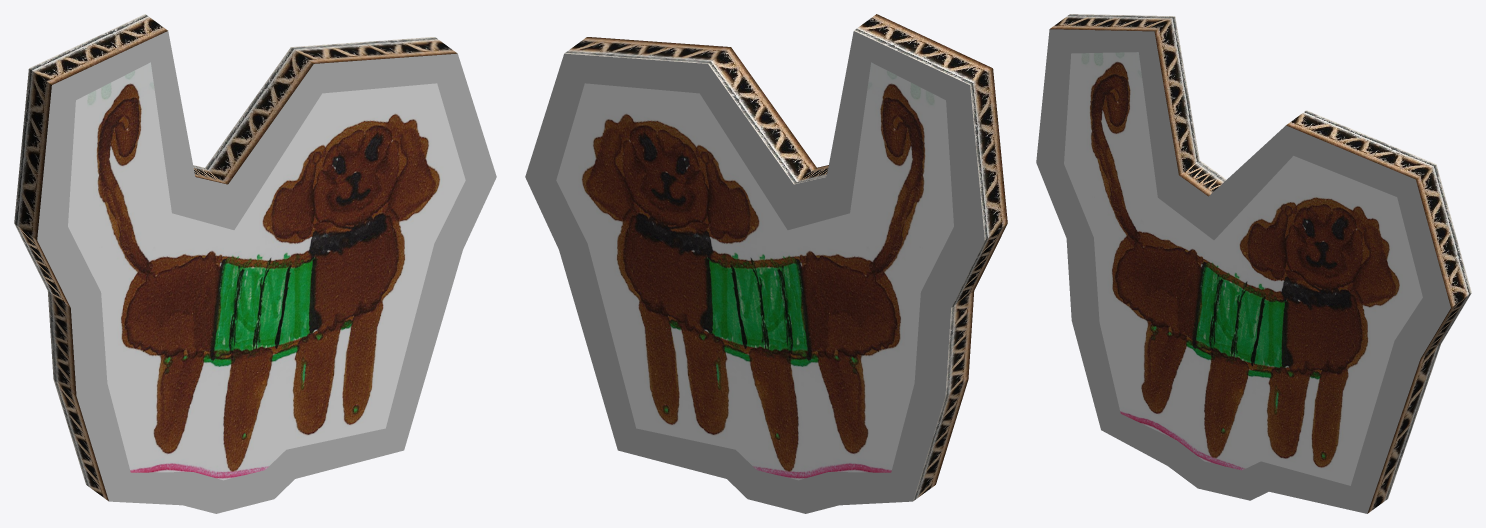
The model's file is K__ri_koira.fbx.
3 renders of one model, left to right at view 1: azimuth 30°, elevation 25°; view 2: azimuth 150°, elevation 25°; view 3: azimuth 330°, elevation 25°, orthographic. The views are drawn at different scales.
Parts seen in each view (by area): view 1: Kääriäkoira; view 2: Kääriäkoira; view 3: Kääriäkoira.
Boxes of the visible parts, x1,y1,x2,y2 form: Kääriäkoira: (14,14,496,513); Kääriäkoira: (525,14,1007,513); Kääriäkoira: (1036,14,1471,513).
Size of the model in its own units: 210 by 216 by 18.2.
